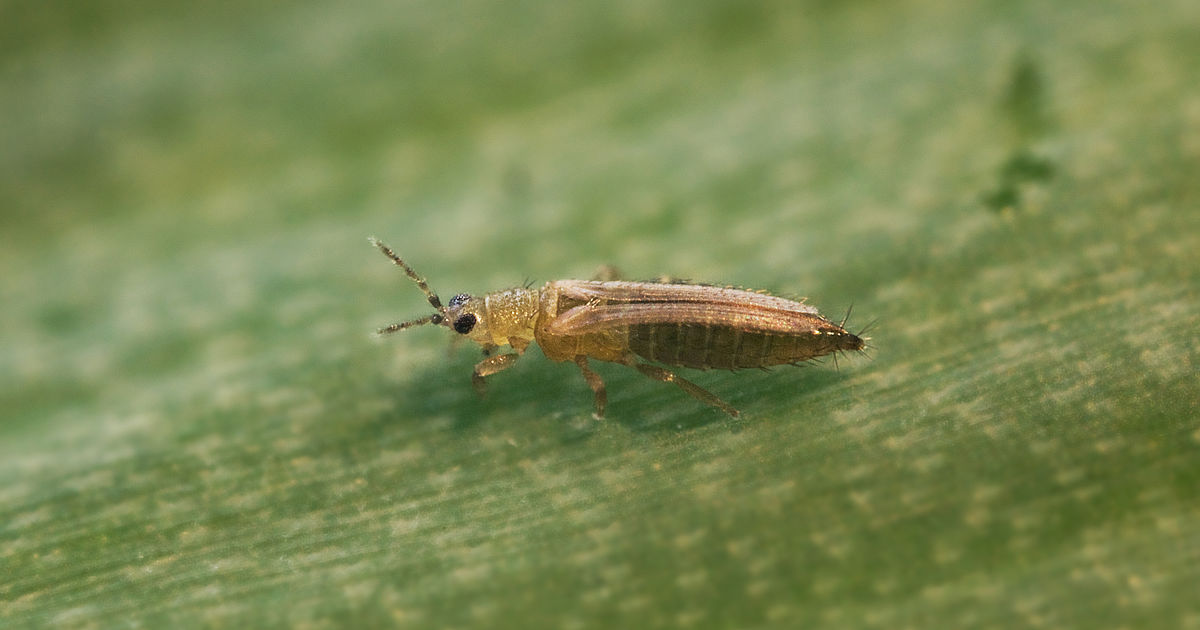Thrips: (354, 216, 901, 457)
